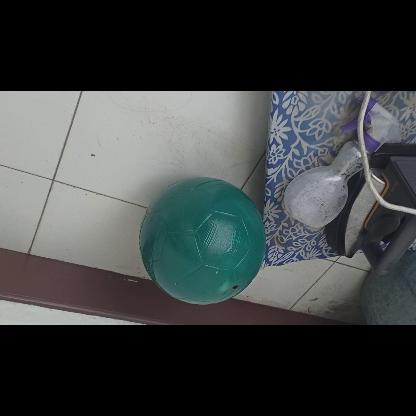green_ball: (136, 178, 264, 306)
